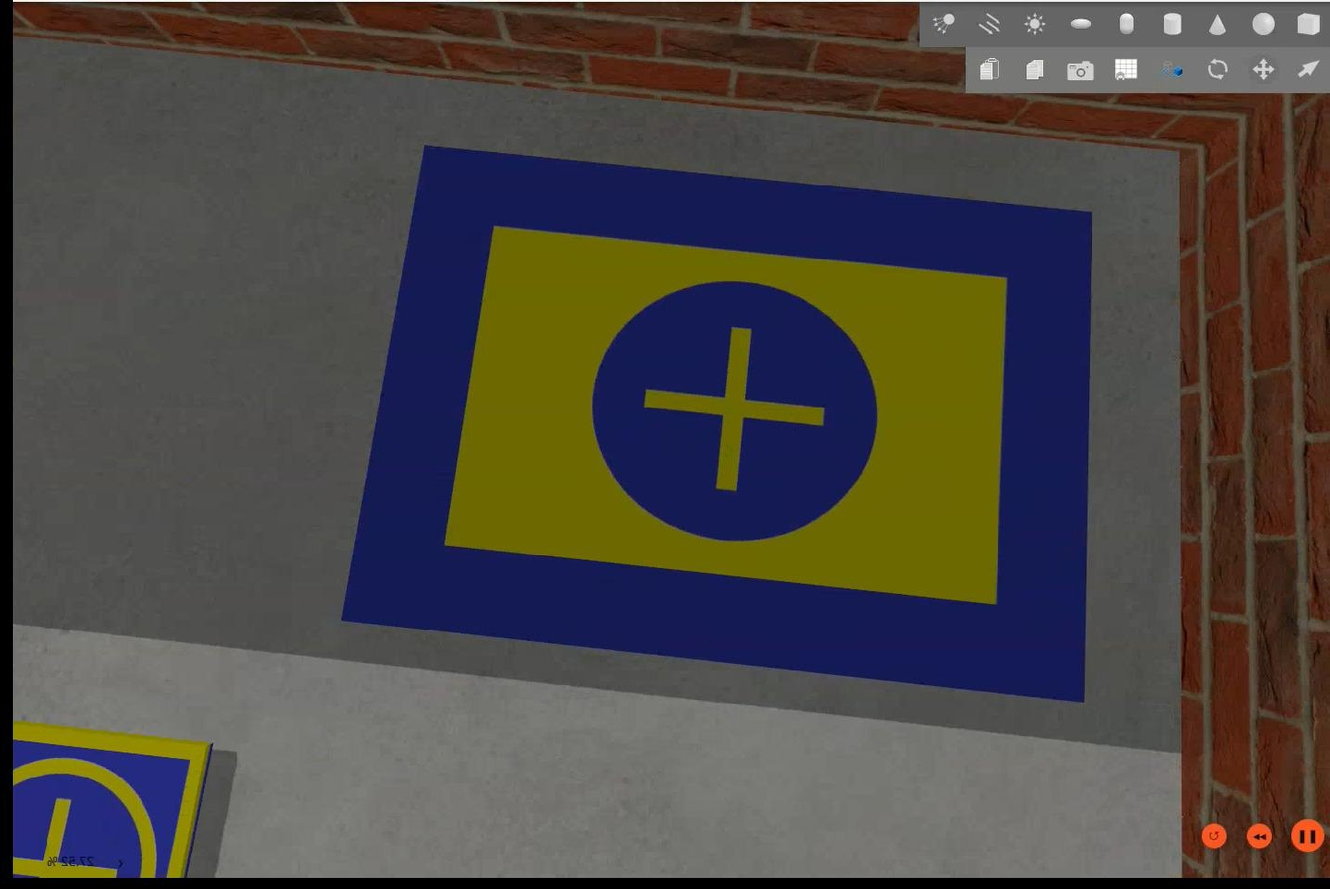large_base: (338, 140, 1096, 708)
small_base: (12, 720, 214, 876)
